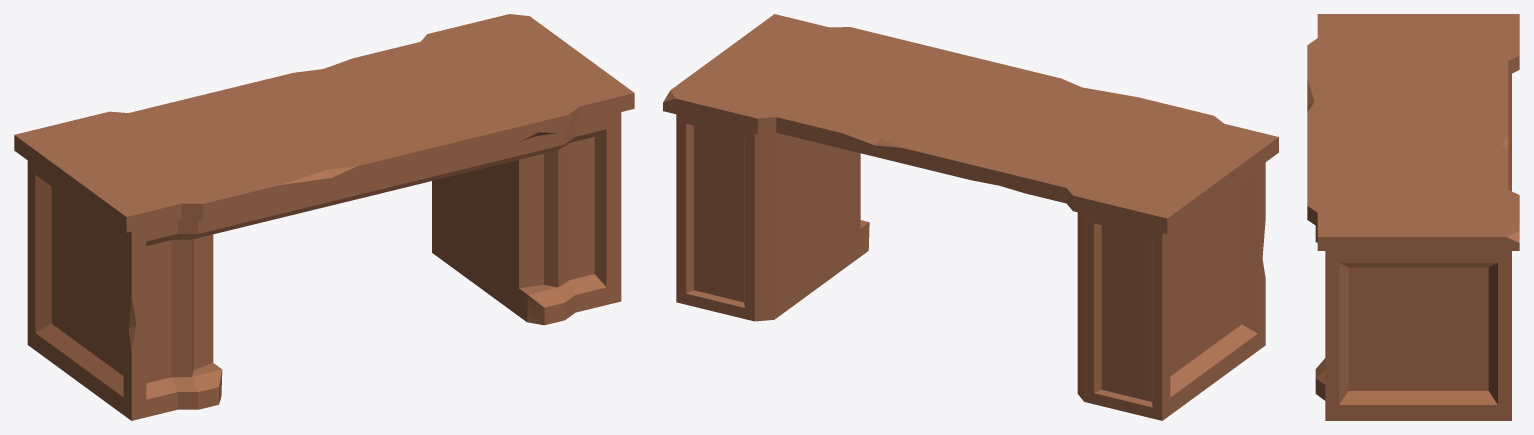
File: SM_Prop_Desk_01.fbx
The picture shows the model from 3 angles, left to right: view 1: azimuth 30°, elevation 25°; view 2: azimuth 150°, elevation 25°; view 3: azimuth 270°, elevation 25°; orthographic projection. The views are drawn at different scales.
Visible parts, largest first — view 1: SM_Prop_Desk_01; view 2: SM_Prop_Desk_01; view 3: SM_Prop_Desk_01.
Part boxes in pixels (box(x1,y1,x2,y2)): SM_Prop_Desk_01: box(14, 14, 634, 420); SM_Prop_Desk_01: box(663, 14, 1278, 420); SM_Prop_Desk_01: box(1307, 14, 1519, 420).
Size of the model in its own units: 223 by 87.69 by 89.58.
